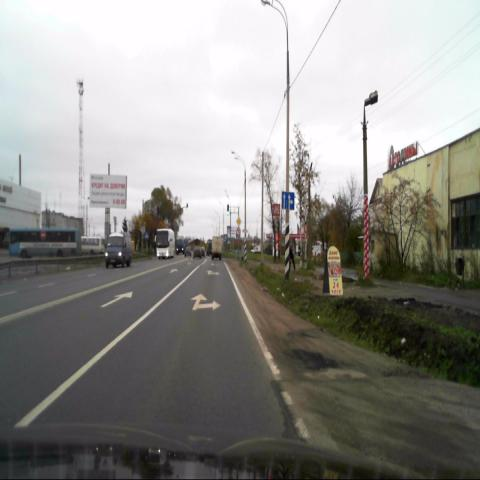5_15_2_2: (281, 191, 295, 209)
